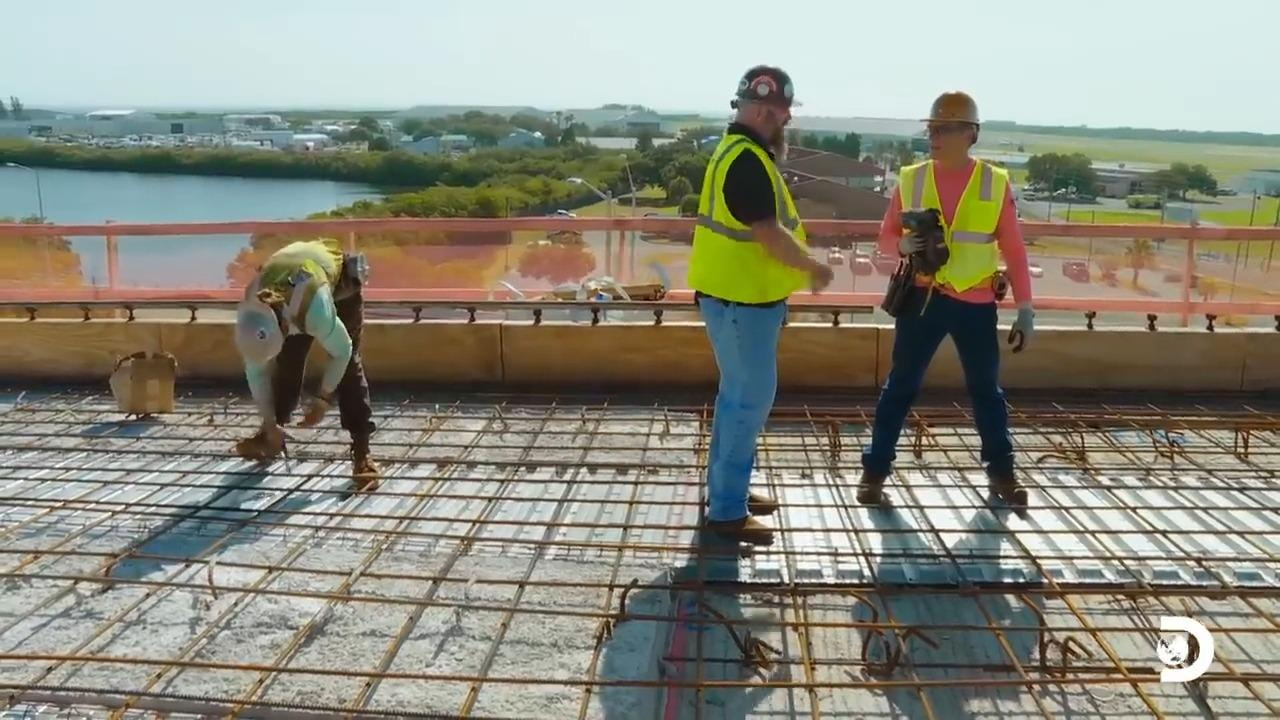Gloves: (1008, 312, 1042, 357), (894, 226, 923, 255), (304, 398, 330, 429)
Helmet: (732, 64, 799, 106), (918, 90, 980, 125)
Person: (855, 90, 1035, 508), (686, 64, 834, 542), (231, 235, 380, 490)
Safety Boot: (705, 509, 769, 542), (992, 463, 1031, 502), (344, 454, 385, 488), (853, 465, 885, 502), (232, 438, 281, 462), (743, 493, 775, 508)
Safety Vest: (698, 146, 787, 300), (904, 173, 1009, 293), (263, 253, 341, 311)
bare-arms: (806, 259, 839, 293)
